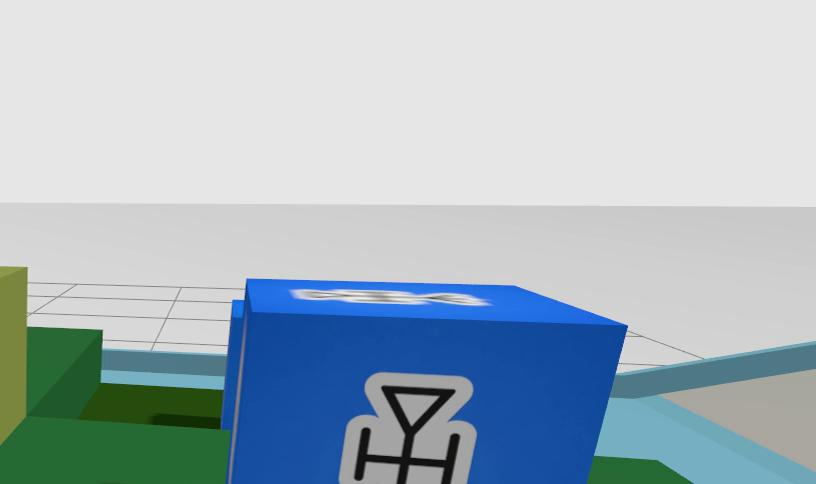KFS_REAL: (226, 278, 626, 484), (339, 373, 476, 484)
